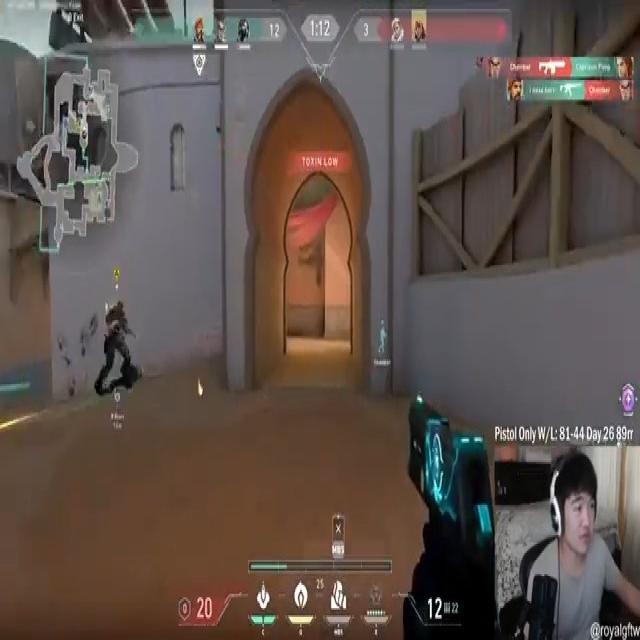ally: (94, 288, 138, 398)
